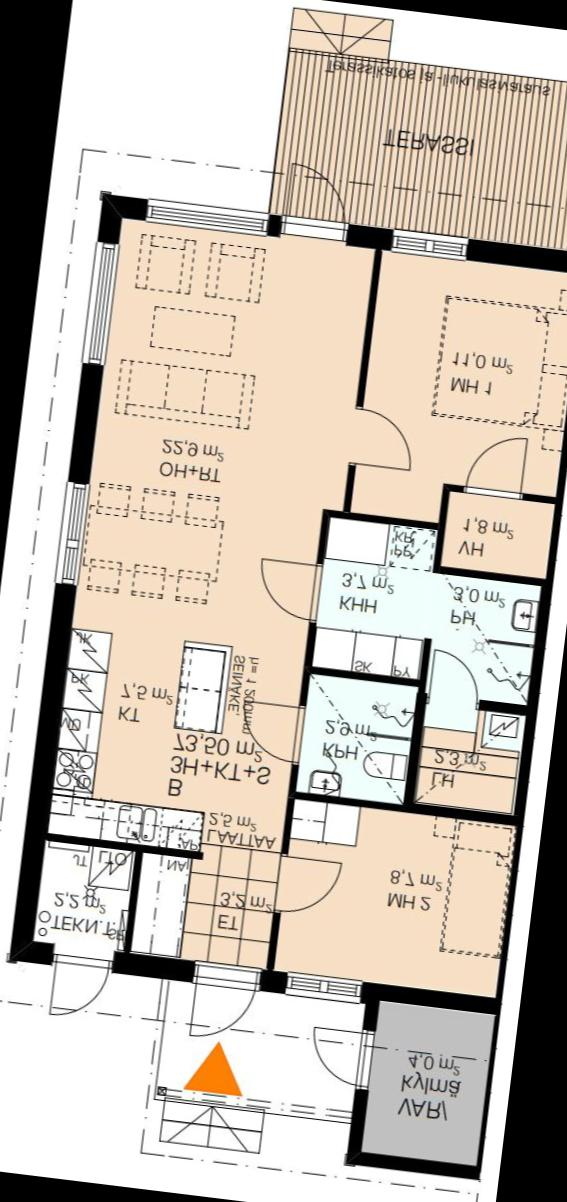door: (176, 955, 262, 1048), (275, 156, 366, 242), (244, 551, 331, 629), (457, 425, 535, 510), (232, 692, 314, 772), (336, 402, 420, 480), (262, 848, 348, 924), (296, 1018, 380, 1094), (40, 949, 112, 1024), (420, 642, 492, 707)
window: (134, 188, 275, 243), (72, 232, 124, 378), (39, 472, 98, 596), (383, 217, 472, 269), (271, 968, 372, 1003)
